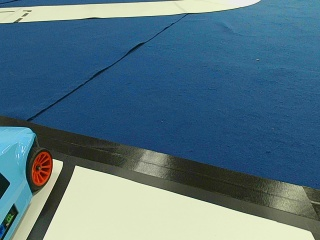car: (0, 129, 50, 233)
